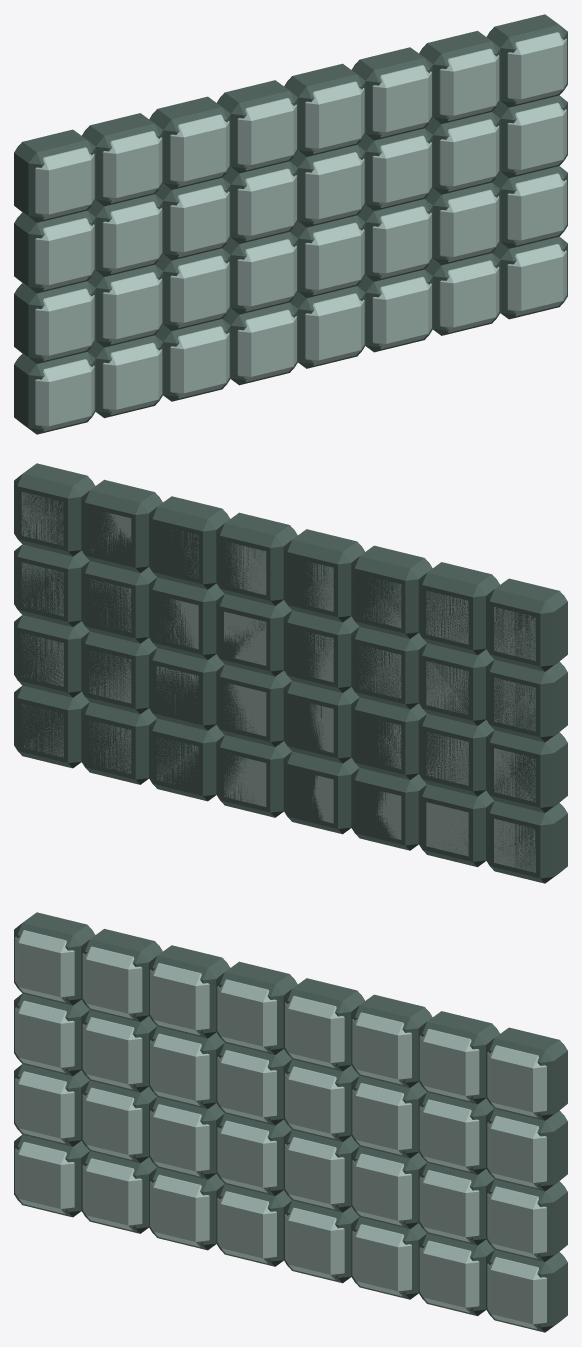
The model's file is Terrain_Block8x4.gltf.
3 renders of one model, top to bottom at view 1: azimuth 30°, elevation 25°; view 2: azimuth 150°, elevation 25°; view 3: azimuth 330°, elevation 25°, orthographic.
Parts seen in each view (by area): view 1: Terrain_Block8x4_baked; view 2: Terrain_Block8x4_baked; view 3: Terrain_Block8x4_baked.
Part boxes in pixels (bbox=[...]): Terrain_Block8x4_baked: bbox=[14, 14, 567, 434]; Terrain_Block8x4_baked: bbox=[14, 463, 567, 883]; Terrain_Block8x4_baked: bbox=[14, 912, 567, 1332].
Size of the model in its own units: 8 by 4 by 0.7.
